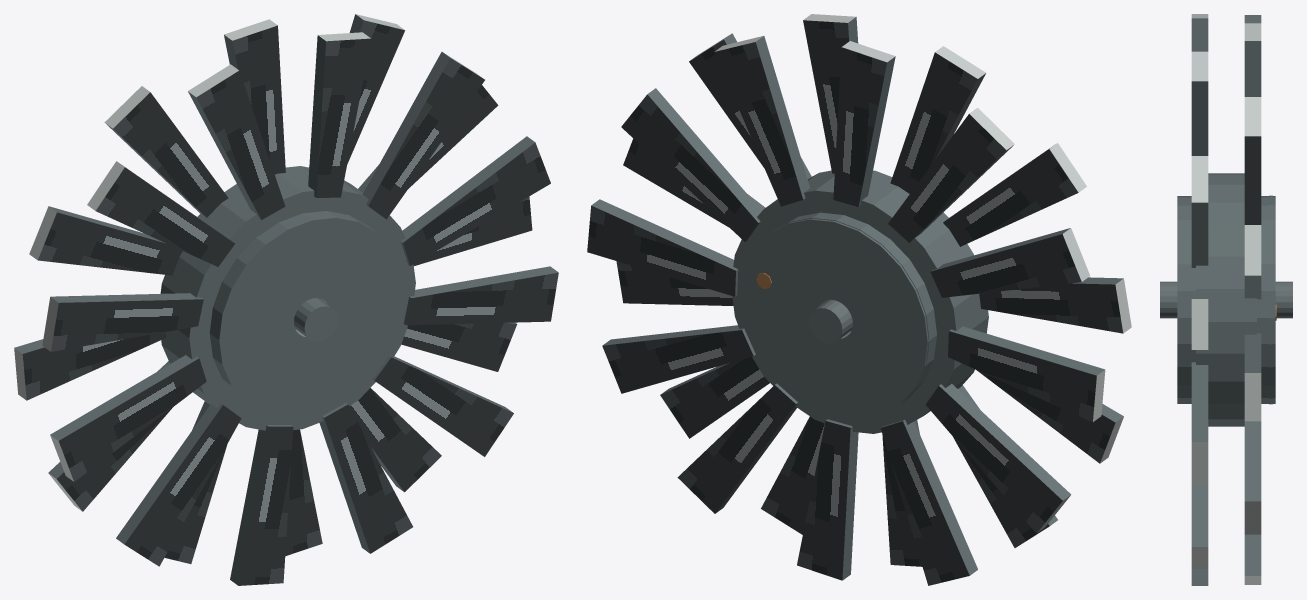
Rendered from rotor_blades_d5.obj.
3 views of the same model, side by side, from view 1: azimuth 30°, elevation 25°; view 2: azimuth 150°, elevation 25°; view 3: azimuth 270°, elevation 25° (orthographic). The views are drawn at different scales.
Parts seen in each view (by area): view 1: stepped_hub, blade_row1_n06, blade_row1_n01, blade_row1_n07, blade_row1_n02, blade_row1_n00, blade_row1_n08, blade_row1_n05, blade_row1_n11, blade_row1_n03, blade_row1_n09, blade_row0_n05 (+14 smaller); view 2: stepped_hub, blade_row0_n07, blade_row0_n02, blade_row0_n01, blade_row0_n08, blade_row0_n06, blade_row0_n00, blade_row0_n03, blade_row0_n09, blade_row0_n05, blade_row0_n11, blade_row0_n04 (+15 smaller); view 3: stepped_hub, blade_row0_n02, blade_row1_n11, blade_row0_n11, blade_row1_n01, blade_row1_n02, blade_row0_n00, blade_row1_n10, rotor_shaft, blade_row0_n01, blade_row0_n03, blade_row1_n00 (+4 smaller).
Boxes of the visible parts, <box> form: stepped_hub: <box>160,166,415,430</box>; blade_row1_n06: <box>50,355,206,481</box>; blade_row1_n01: <box>362,52,484,219</box>; blade_row1_n07: <box>116,403,241,566</box>; blade_row1_n02: <box>308,32,370,197</box>; blade_row1_n00: <box>401,136,550,266</box>; blade_row1_n08: <box>230,425,293,585</box>; blade_row1_n05: <box>42,293,203,351</box>; blade_row1_n11: <box>403,266,558,325</box>; blade_row1_n03: <box>188,64,285,219</box>; blade_row1_n09: <box>319,403,412,553</box>; blade_row0_n05: <box>29,206,182,275</box>; stepped_hub: <box>732,170,988,433</box>; blade_row0_n07: <box>925,384,1071,533</box>; blade_row0_n02: <box>714,36,809,206</box>; blade_row0_n01: <box>621,88,761,241</box>; blade_row0_n08: <box>880,419,977,585</box>; blade_row0_n06: <box>948,326,1105,422</box>; blade_row0_n00: <box>587,199,738,296</box>; blade_row0_n03: <box>833,41,895,206</box>; blade_row0_n09: <box>797,419,858,580</box>; blade_row0_n05: <box>930,228,1090,297</box>; blade_row0_n11: <box>602,325,755,393</box>; blade_row0_n04: <box>888,107,1014,242</box>; stepped_hub: <box>1177,173,1275,426</box>; blade_row0_n02: <box>1244,97,1261,224</box>; blade_row1_n11: <box>1191,362,1208,484</box>; blade_row0_n11: <box>1244,421,1261,534</box>; blade_row1_n01: <box>1191,156,1208,267</box>; blade_row1_n02: <box>1191,51,1208,155</box>; blade_row0_n00: <box>1244,333,1261,421</box>; blade_row1_n10: <box>1191,484,1208,568</box>; rotor_shaft: <box>1160,281,1292,318</box>; blade_row0_n01: <box>1244,225,1261,299</box>; blade_row0_n03: <box>1244,23,1261,96</box>; blade_row1_n00: <box>1191,299,1208,349</box>.
Size of the model in its own units: 4.31 by 4.31 by 1.
